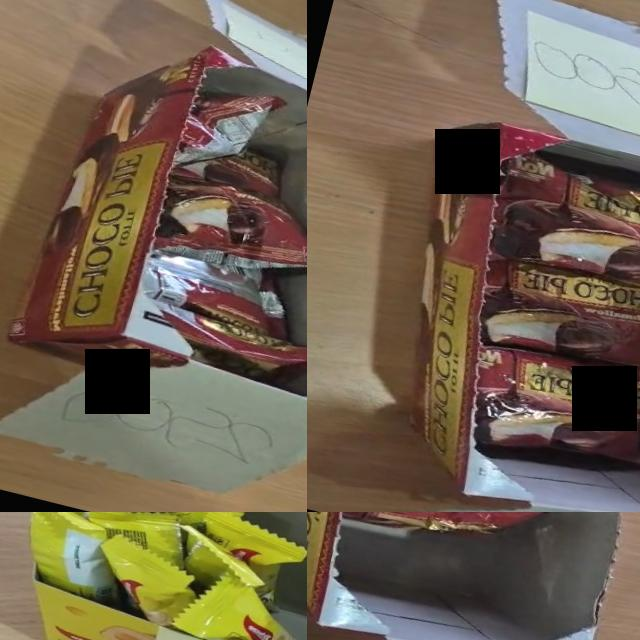Ahh: (205, 512, 307, 608), (104, 535, 194, 626), (31, 512, 118, 604), (176, 577, 298, 640), (92, 512, 183, 567), (183, 526, 262, 588), (170, 512, 207, 524)
Chocopie: (457, 329, 640, 484), (480, 138, 640, 304), (467, 244, 640, 387), (148, 171, 307, 295), (135, 242, 300, 340), (143, 301, 307, 398), (172, 74, 288, 188), (337, 512, 546, 565), (170, 133, 288, 205)
